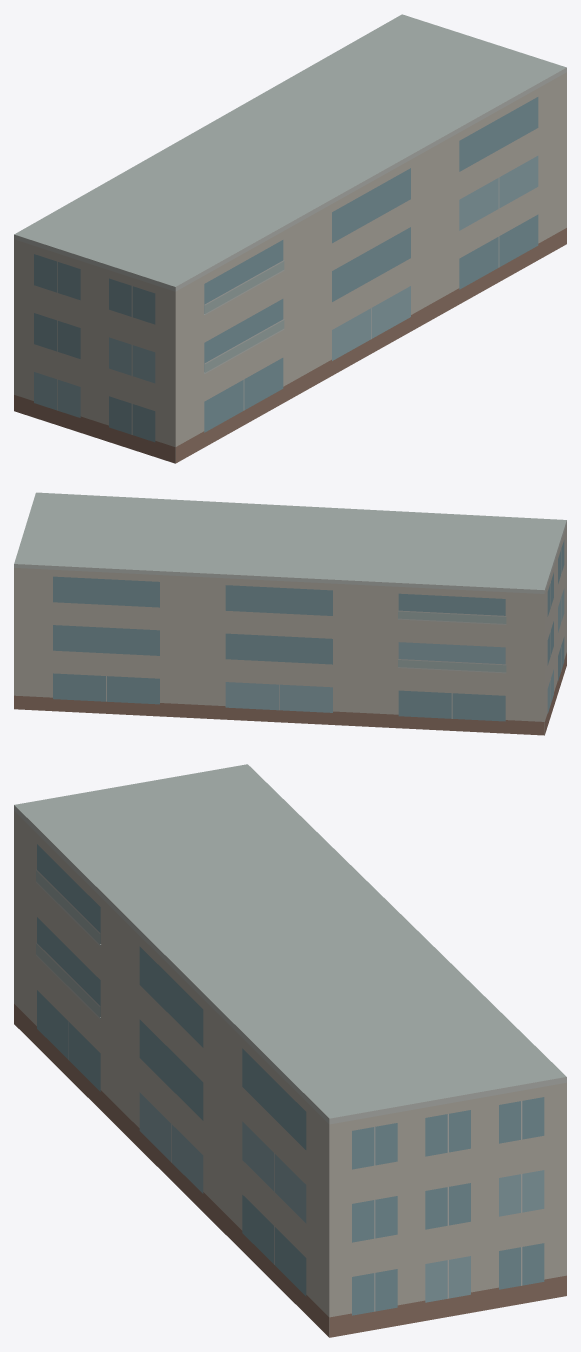
File: survey-upis-32762624.glb
3 renders of one model, top to bottom at view 1: azimuth 30°, elevation 25°; view 2: azimuth 150°, elevation 25°; view 3: azimuth 270°, elevation 25°, orthographic. The views are drawn at different scales.
Visible parts, largest first — view 1: survey-upis-32762624.tmp; view 2: survey-upis-32762624.tmp; view 3: survey-upis-32762624.tmp.
Boxes of the visible parts, <box> form: survey-upis-32762624.tmp: <box>14,14,566,463</box>; survey-upis-32762624.tmp: <box>14,492,566,735</box>; survey-upis-32762624.tmp: <box>14,764,566,1337</box>.
Size of the model in its own units: 31.76 by 9.15 by 20.93.
